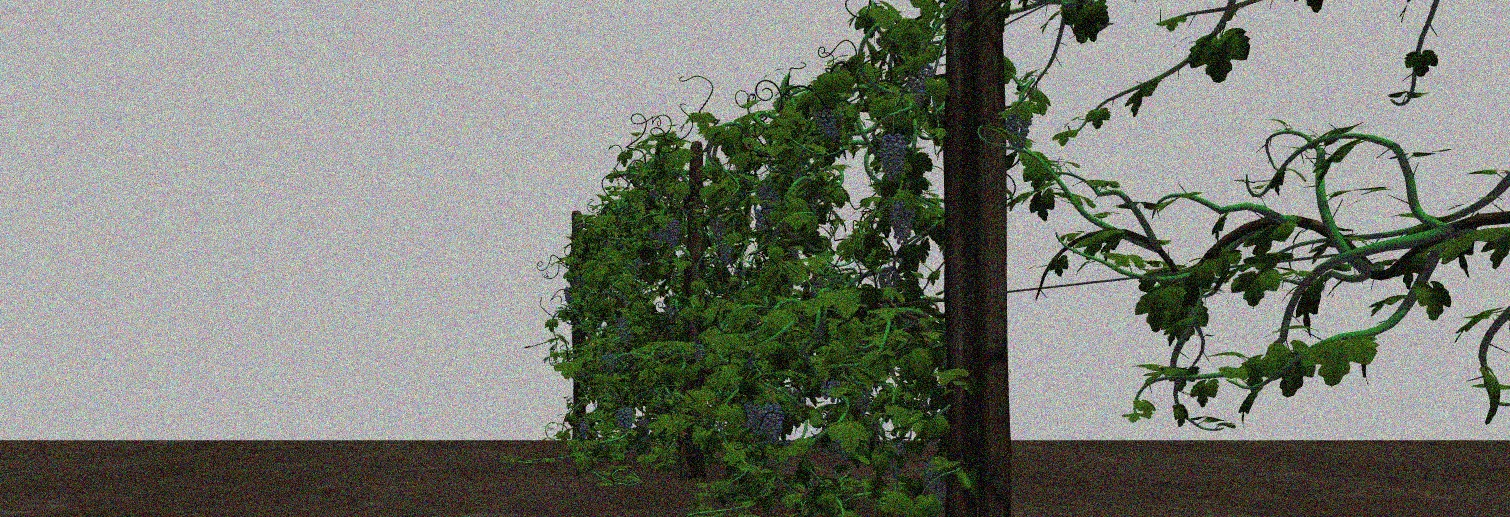grape: (879, 132, 908, 182), (891, 197, 917, 244), (1007, 106, 1032, 152), (909, 68, 936, 106), (741, 401, 762, 438), (762, 405, 784, 440), (816, 109, 837, 142), (759, 186, 778, 214), (664, 220, 681, 248), (615, 407, 633, 432), (710, 216, 728, 239), (618, 319, 633, 344), (719, 242, 734, 263), (579, 422, 590, 438), (564, 286, 573, 303)
